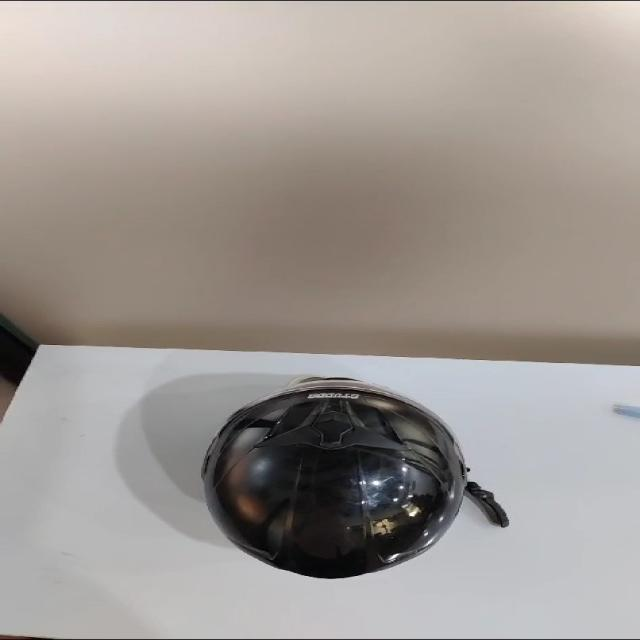helmet: (162, 368, 468, 590)
